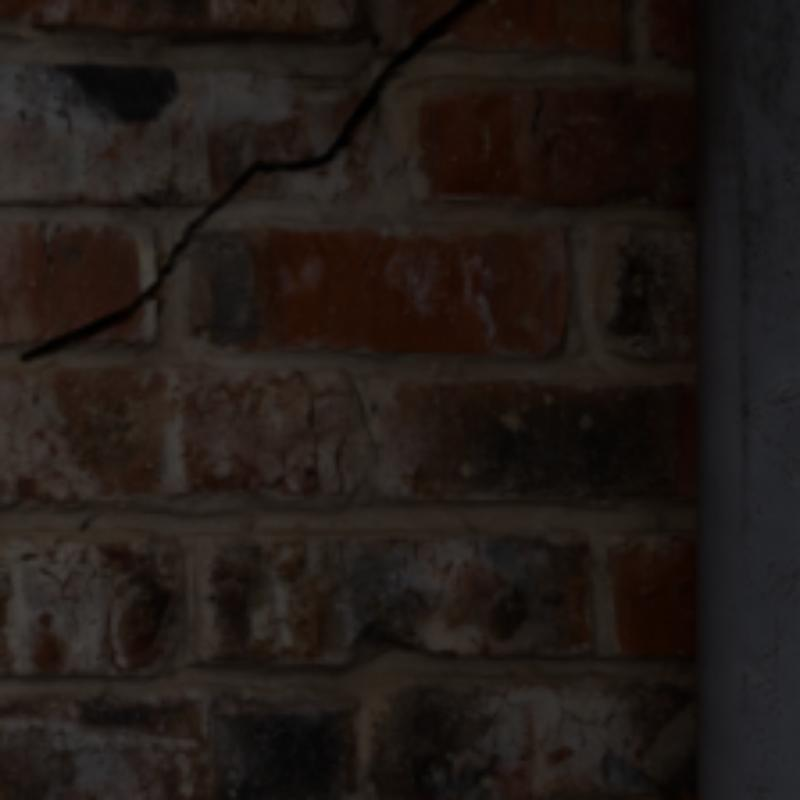pothole: (21, 0, 482, 357)
